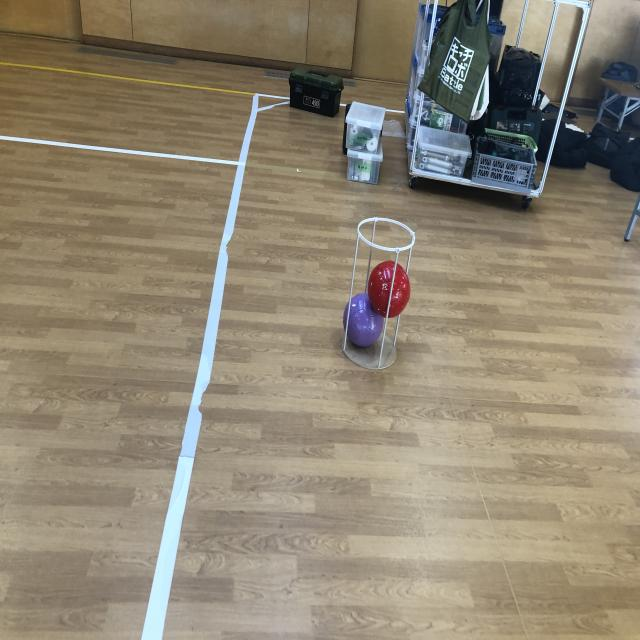purple_ball: (346, 294, 384, 346)
red_ball: (366, 262, 409, 319)
